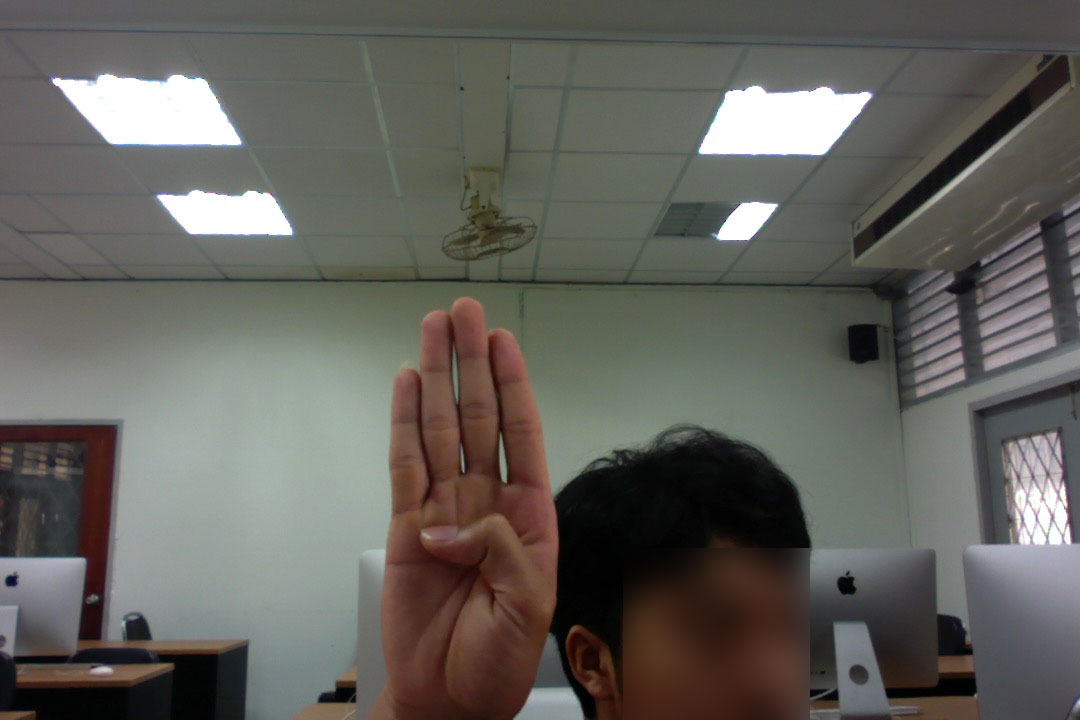bor: (374, 289, 565, 720)
